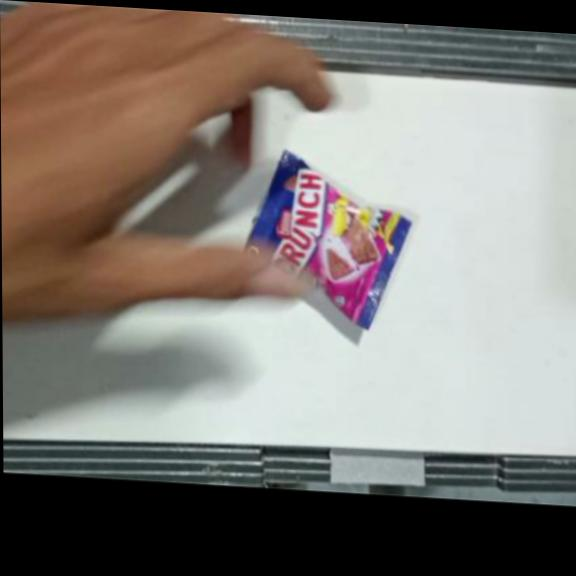Plastik: (246, 148, 413, 333)
